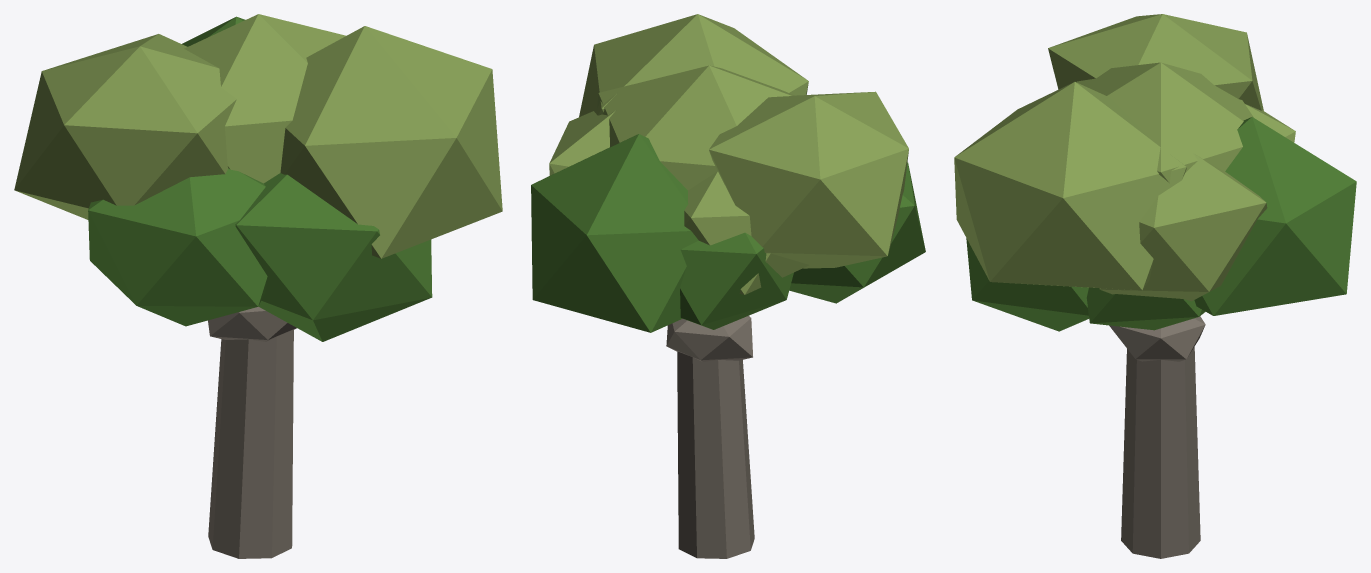
The model's file is UM_Kopfweide.fbx.
3 views of the same model, side by side, from view 1: azimuth 30°, elevation 25°; view 2: azimuth 150°, elevation 25°; view 3: azimuth 270°, elevation 25° (orthographic). The views are drawn at different scales.
Visible parts, largest first — view 1: UM_Kopfweide; view 2: UM_Kopfweide; view 3: UM_Kopfweide.
Part boxes in pixels (left/top/right/bottom): UM_Kopfweide: left=14, top=14, right=502, bottom=558; UM_Kopfweide: left=531, top=14, right=925, bottom=558; UM_Kopfweide: left=954, top=14, right=1356, bottom=558.
Bounding box in the file's own units: 4.8 × 6.12 × 4.55.
